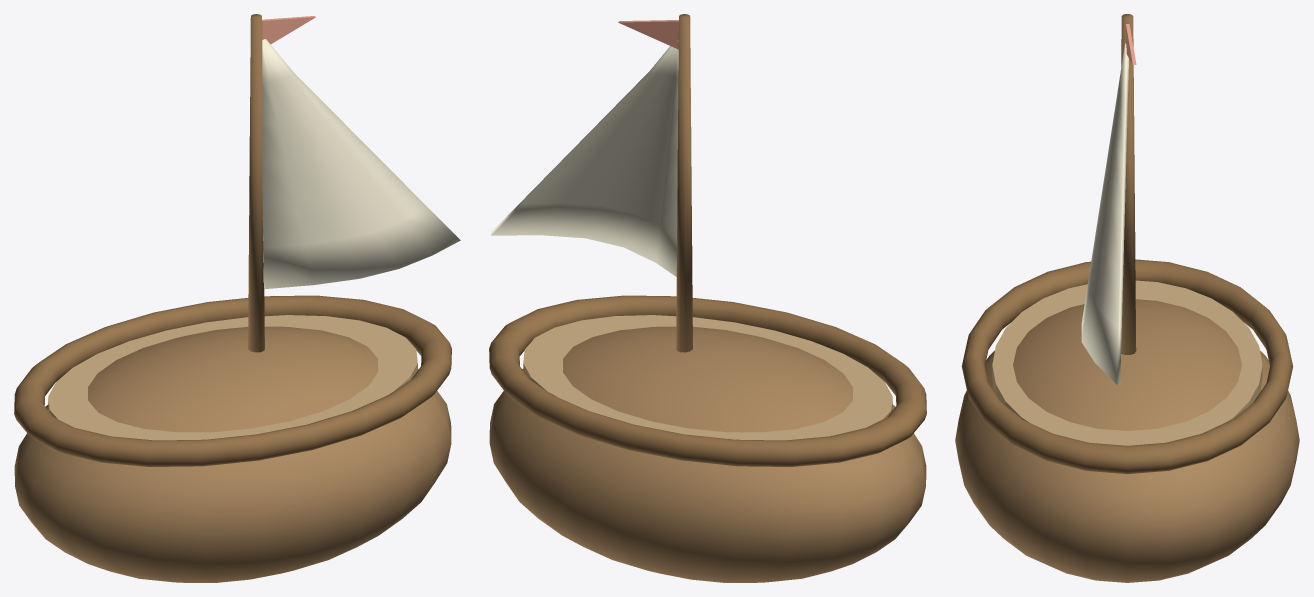
3 renders of one model, left to right at view 1: azimuth 30°, elevation 25°; view 2: azimuth 150°, elevation 25°; view 3: azimuth 270°, elevation 25°, orthographic.
Parts seen in each view (by area): view 1: Boat; view 2: Boat; view 3: Boat.
Part boxes in pixels (<box>): Boat: <box>14,14,460,582</box>; Boat: <box>489,14,926,582</box>; Boat: <box>955,14,1299,582</box>.
Bounding box in the file's own units: 2.74 × 3.27 × 1.9.
